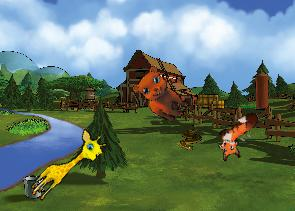bear: (127, 61, 197, 126)
fox: (208, 109, 270, 165)
giraffe: (26, 124, 110, 210)
